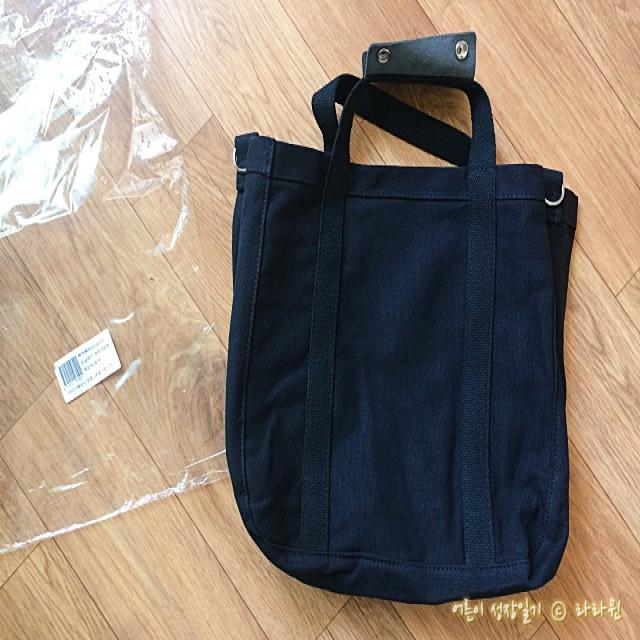ecobag: (188, 50, 586, 602)
